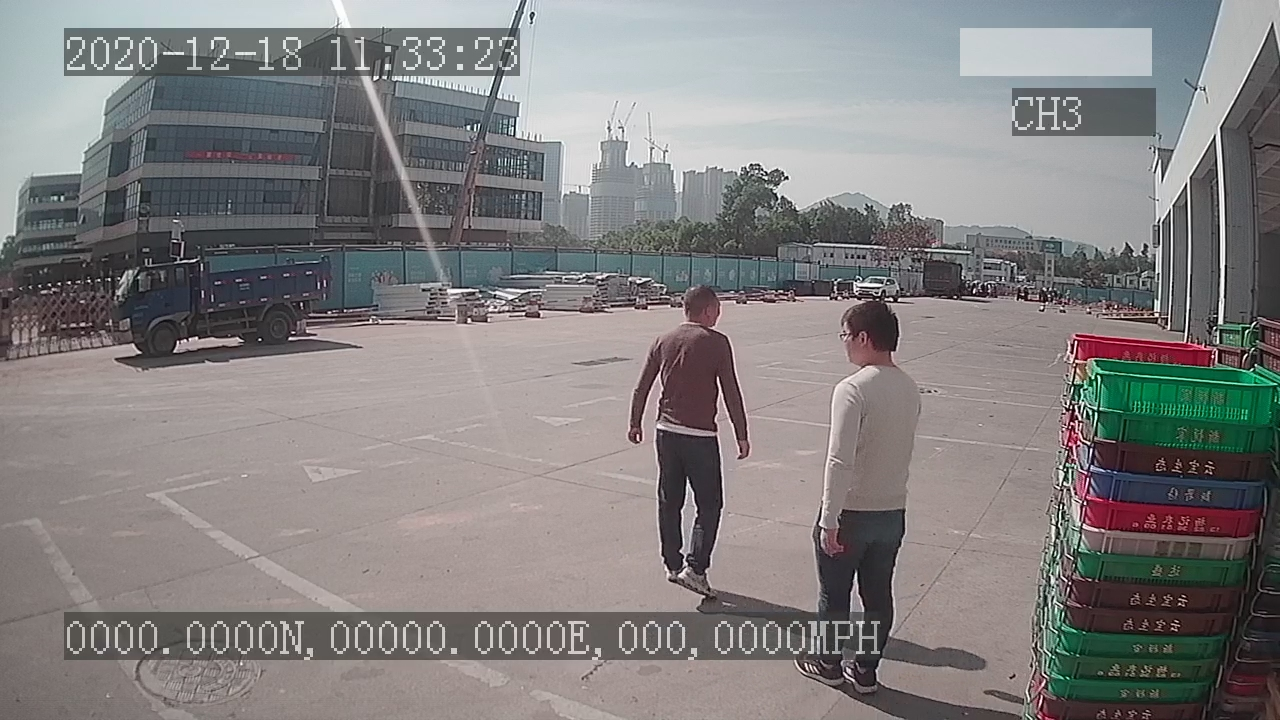person: (626, 281, 749, 599)
